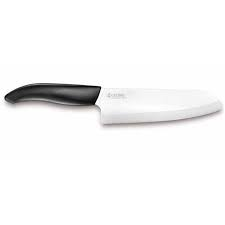kuchillu: (2, 80, 223, 127)
